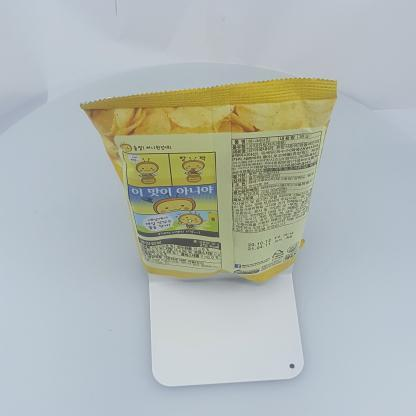Plastic Packaging: (72, 67, 348, 293)
